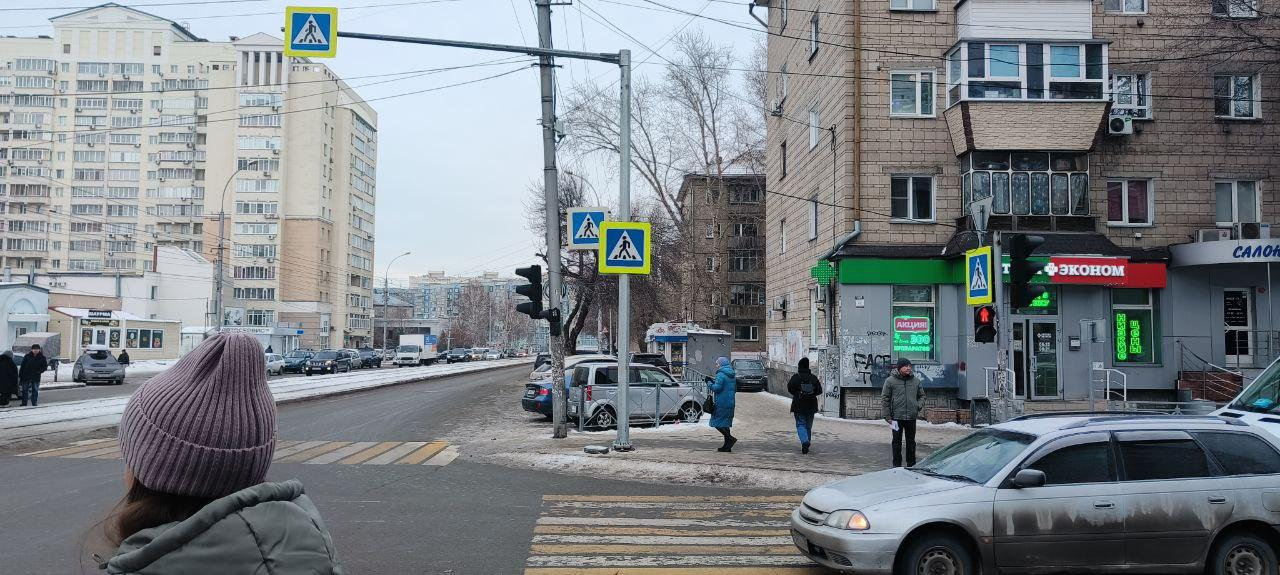obstructed_road_sign: (568, 208, 608, 250)
off traffic light: (1007, 232, 1047, 309), (515, 264, 542, 319)
road_sign: (599, 221, 650, 274), (286, 6, 337, 56), (966, 247, 992, 304)
traffic light: (975, 307, 996, 344)
